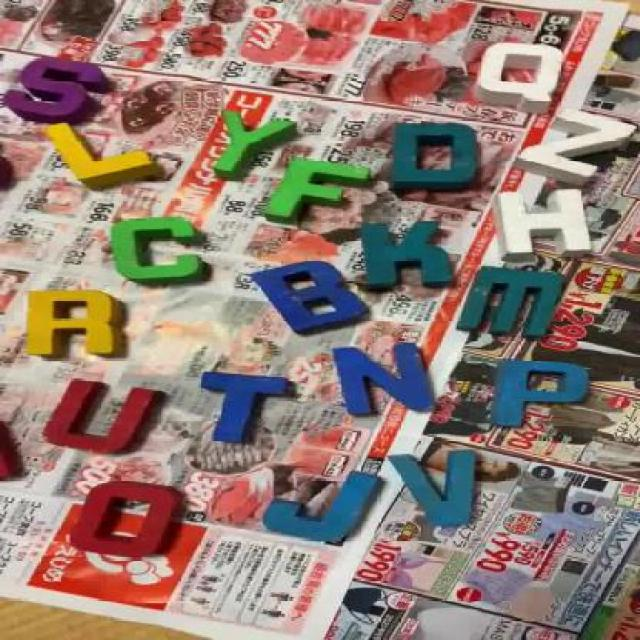B: (248, 261, 369, 337)
C: (111, 218, 211, 285)
D: (388, 123, 484, 189)
F: (271, 157, 374, 217)
H: (499, 191, 596, 257)
J: (265, 468, 384, 540)
K: (363, 223, 448, 288)
L: (48, 121, 155, 188)
M: (471, 268, 563, 337)
N: (333, 344, 441, 416)
O: (63, 483, 191, 552)
P: (491, 356, 586, 424)
Q: (472, 40, 566, 106)
R: (30, 288, 122, 355)
S: (7, 57, 98, 125)
T: (202, 372, 296, 443)
U: (44, 382, 165, 449)
V: (394, 447, 480, 527)
Y: (208, 111, 300, 169)
Z: (523, 109, 632, 182)
